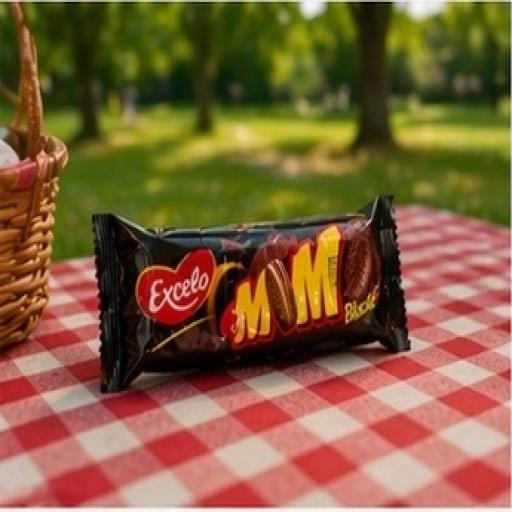MOMO: (51, 174, 453, 416)
